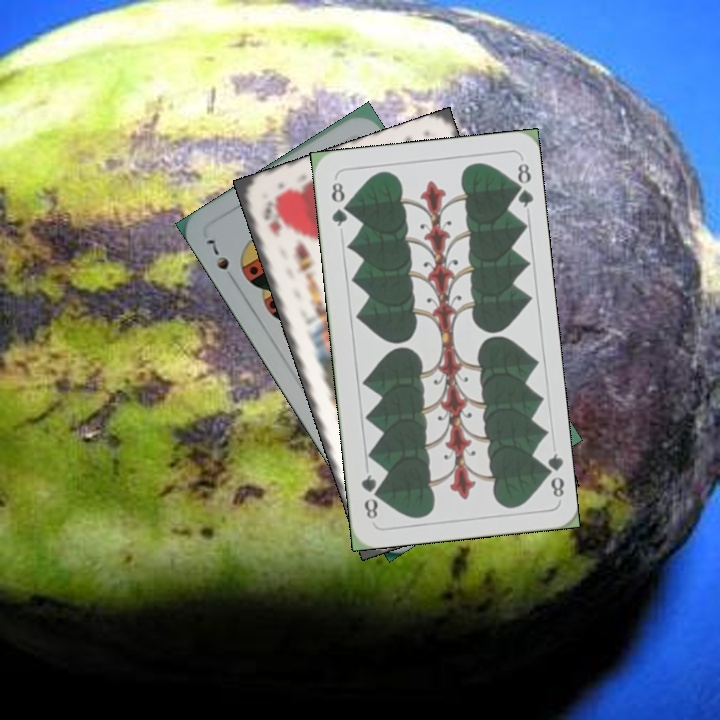G8: (537, 449, 567, 500), (327, 178, 351, 229)
HK: (259, 197, 284, 239)
S7: (202, 234, 232, 273)
